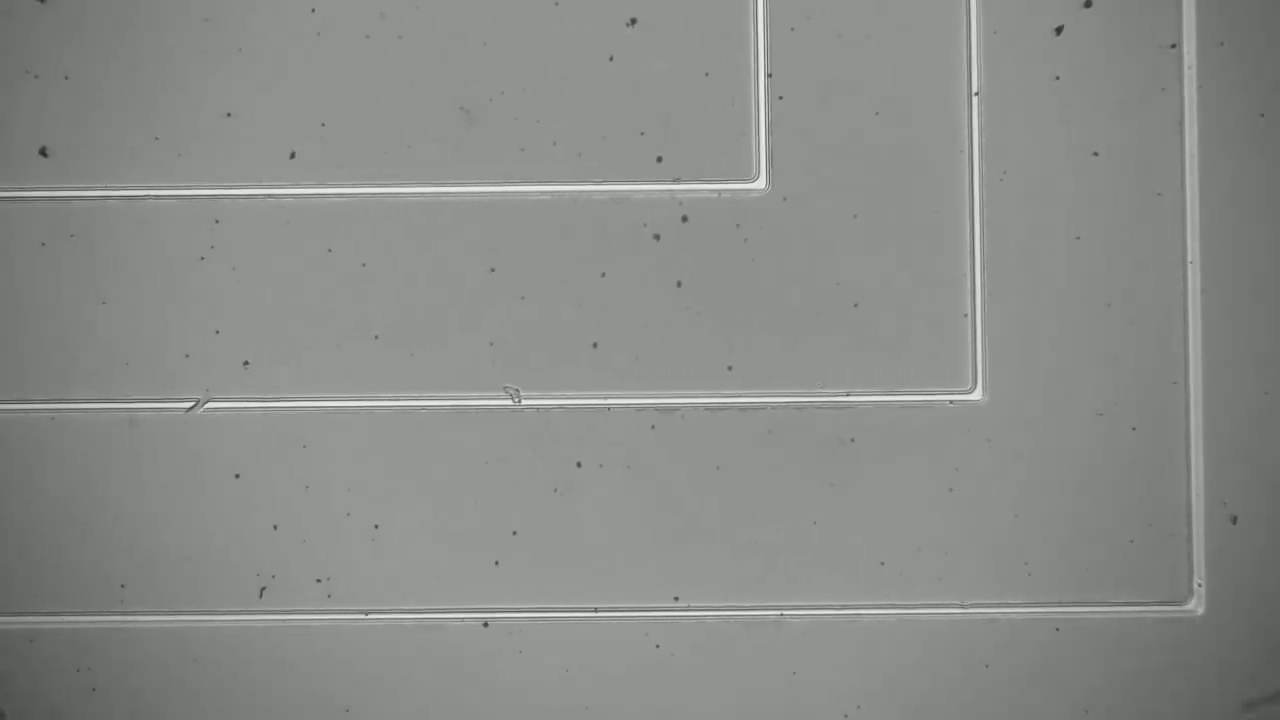open: (176, 386, 219, 428)
stains_enbedded: (491, 377, 536, 419)
